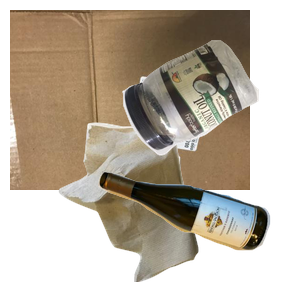cardboard: (10, 10, 250, 190)
glass: (95, 168, 300, 300)
plastic: (120, 37, 300, 185)
trash: (56, 120, 247, 300)
